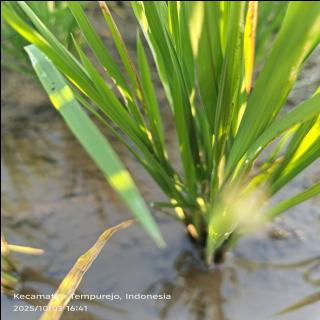Hawar-Daun: (55, 219, 134, 292)
